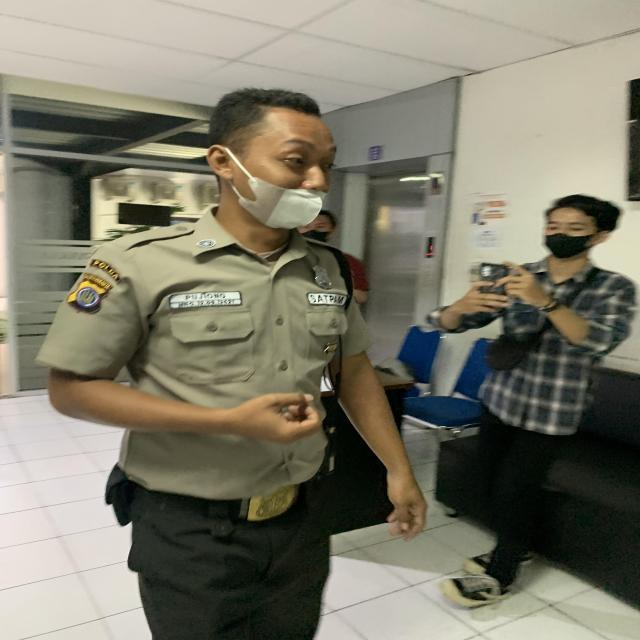hairnet: (230, 165, 345, 233)
